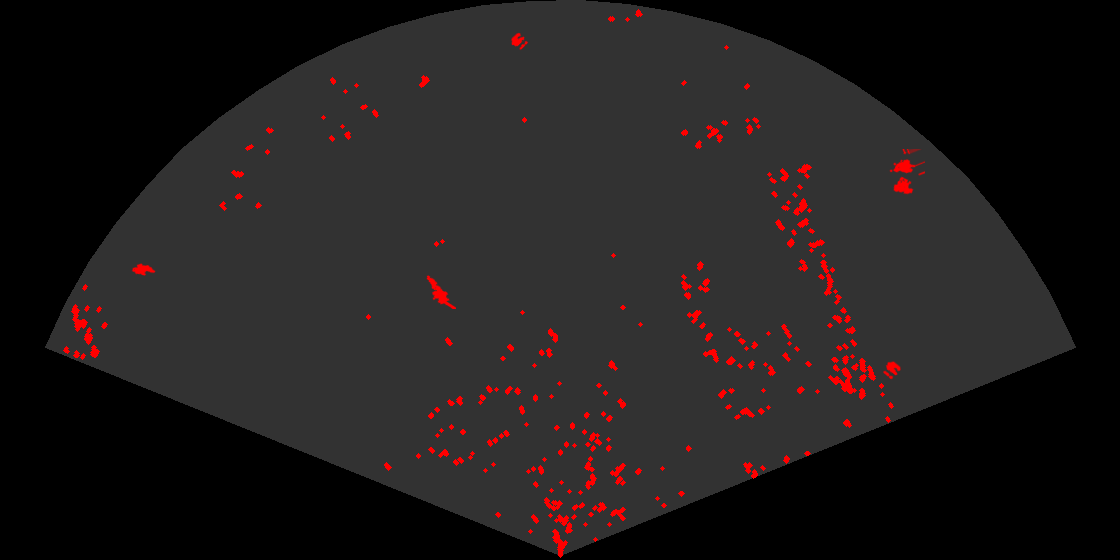AUV: (130, 262, 157, 277)
ball: (881, 360, 903, 381), (509, 31, 530, 52)
cage: (888, 149, 925, 196)
frogman: (425, 274, 456, 309)
